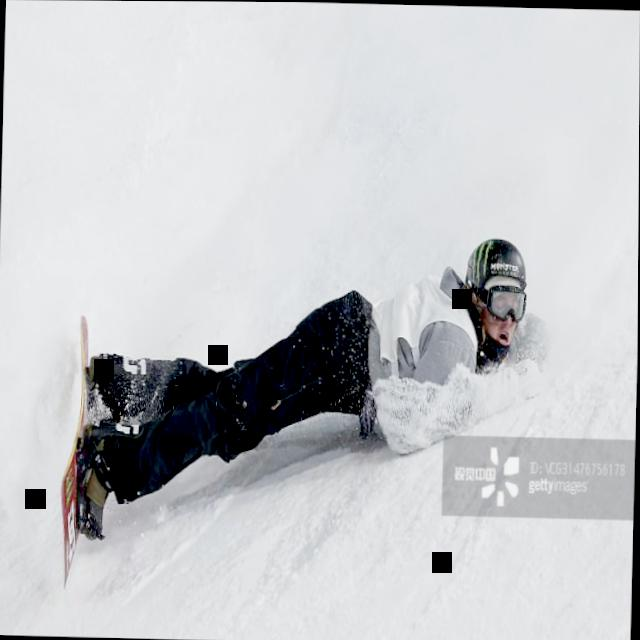Fall-Detected: (53, 207, 554, 561)
